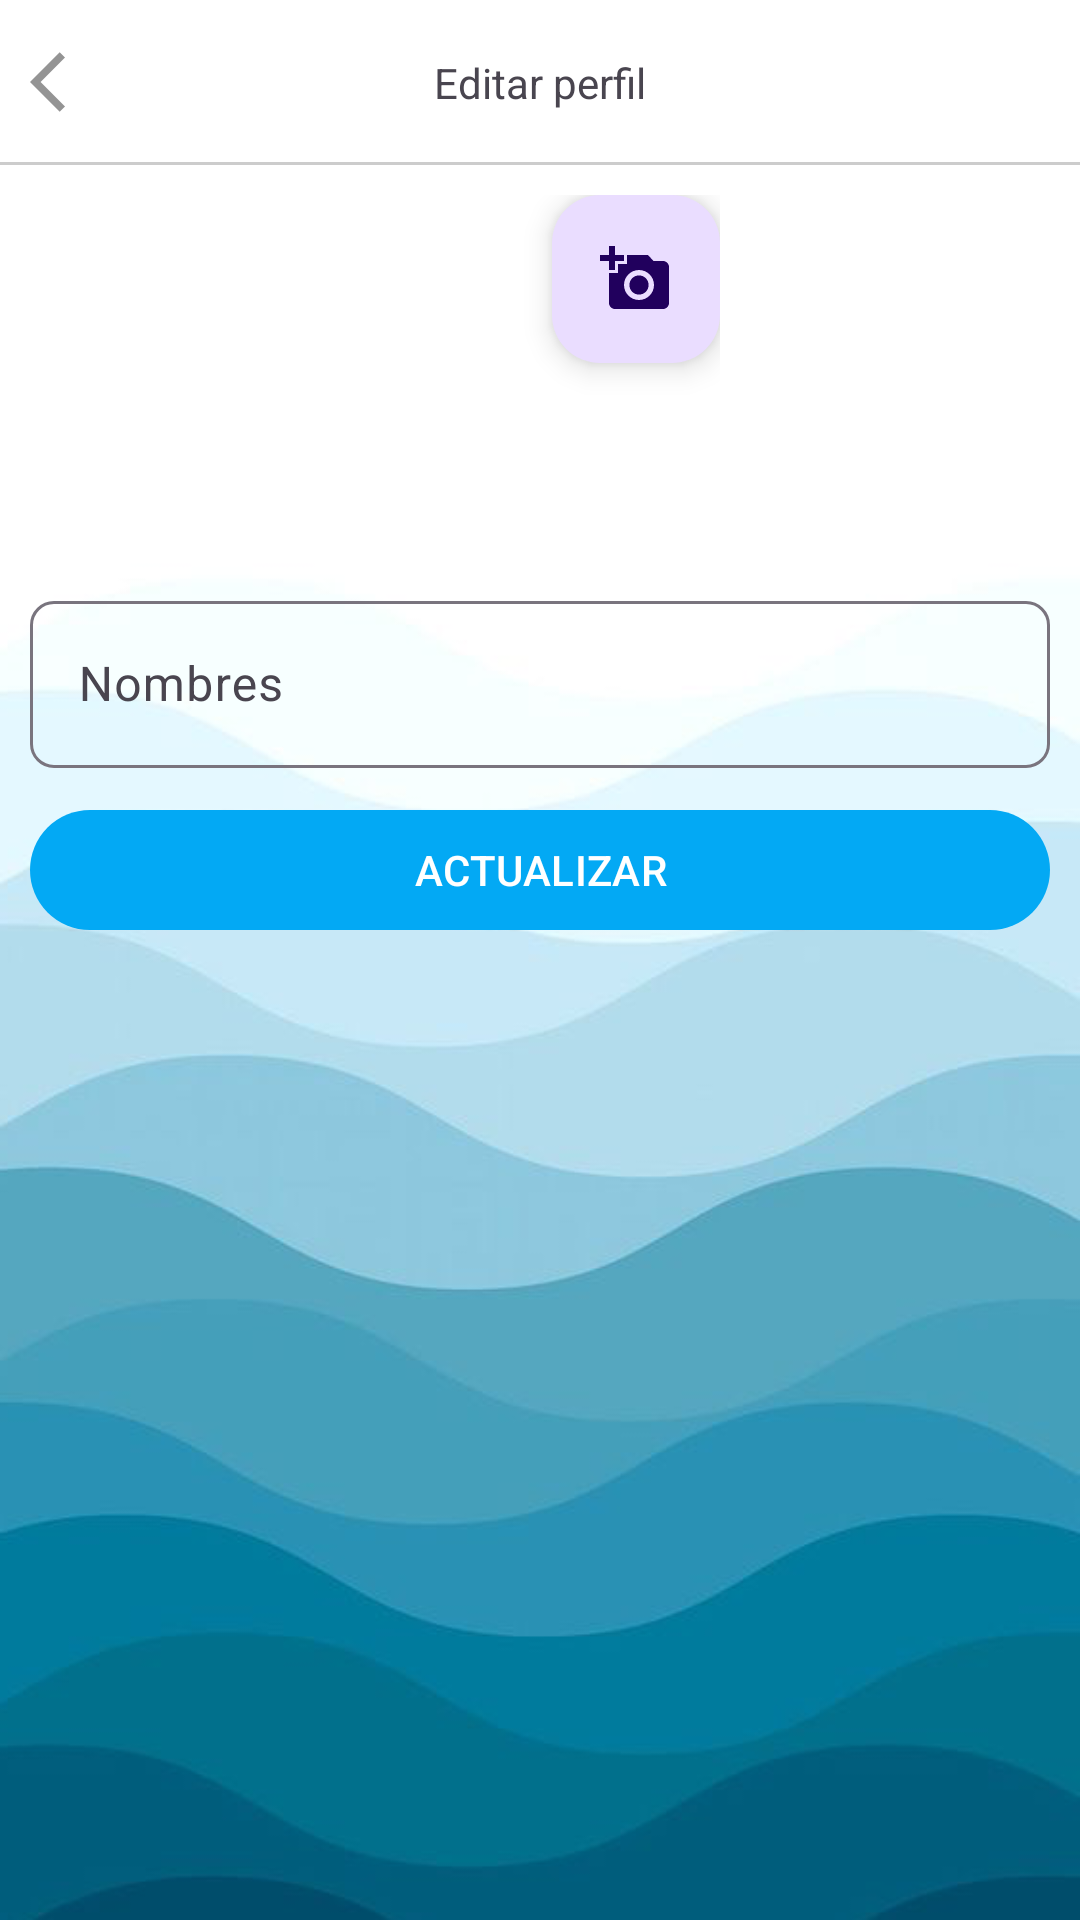

Icon click points for this 1080px×1920px phone screenshot, format [x,y]:
cambiar: [636,279]
regresar: [47,82]
